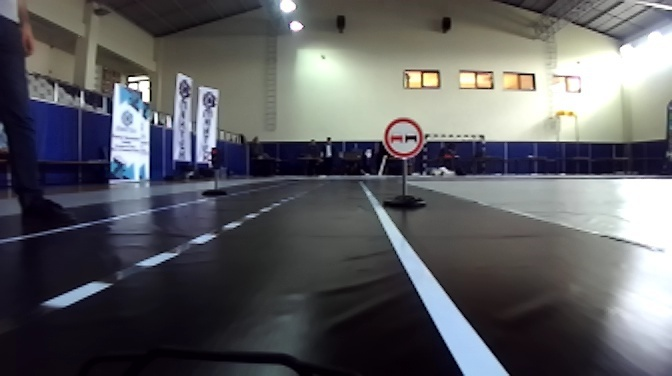sollama_yasak: (382, 117, 422, 159)
